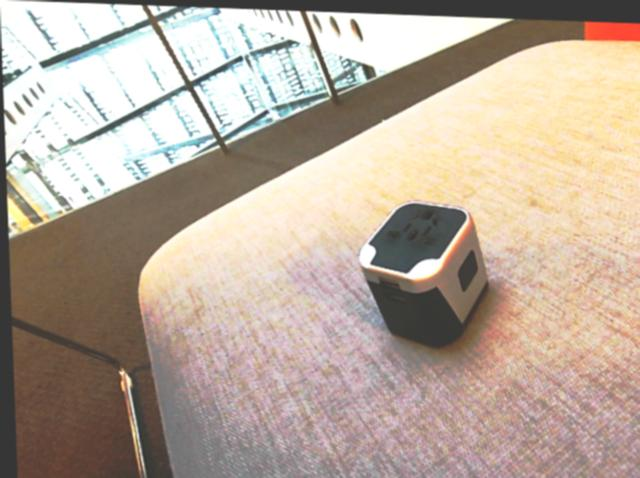adapter: (353, 195, 488, 345)
